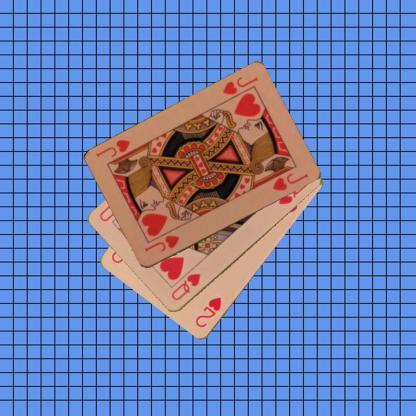2h: (192, 294, 225, 330)
Jh: (219, 74, 259, 96), (142, 232, 180, 254)
Qh: (168, 271, 203, 302)
